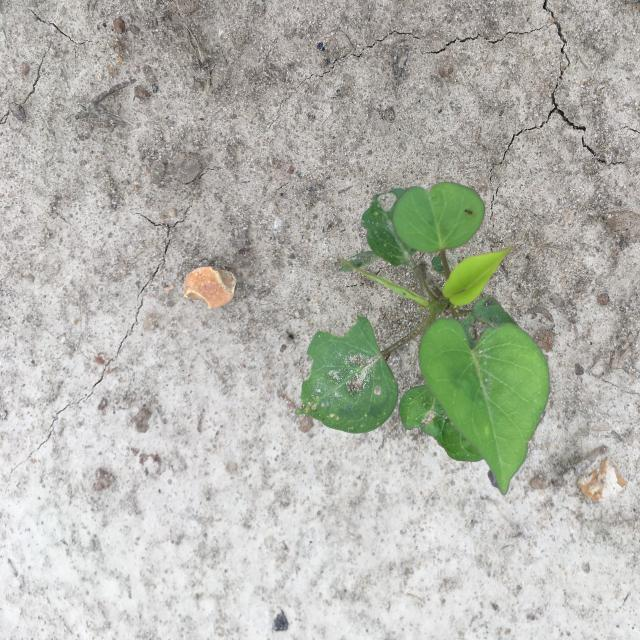MorningGlory: (296, 182, 550, 496)
